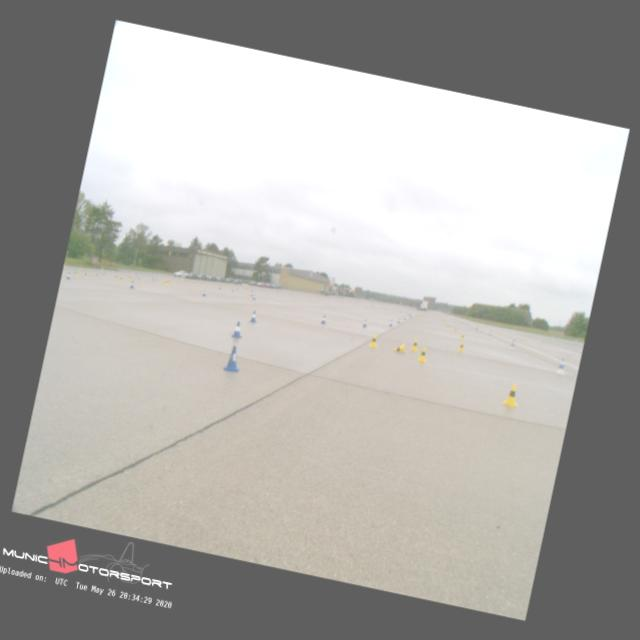blue_cone: (222, 344, 242, 372), (229, 321, 244, 338), (248, 310, 258, 322), (319, 314, 326, 324), (362, 318, 368, 327)
yellow_cone: (501, 382, 520, 408), (416, 346, 428, 362), (392, 341, 406, 354), (367, 332, 379, 347), (409, 338, 418, 350), (458, 341, 464, 352)
